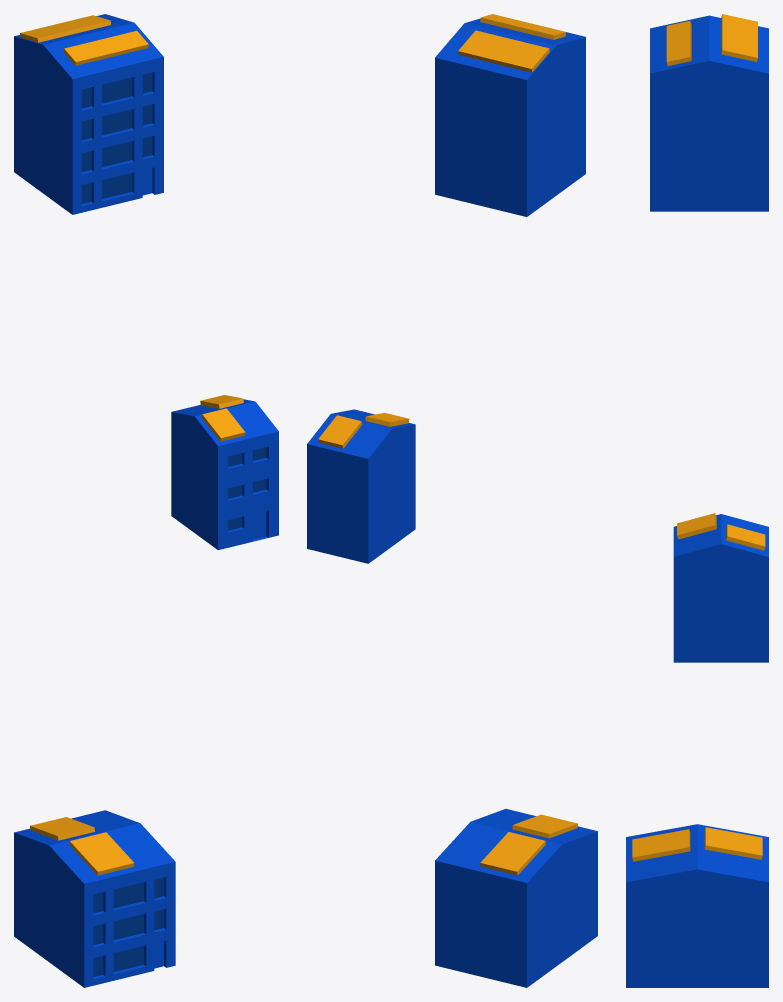
File: BinaGrup5.gltf
The picture shows the model from 3 angles, left to right: view 1: azimuth 30°, elevation 25°; view 2: azimuth 150°, elevation 25°; view 3: azimuth 270°, elevation 25°; orthographic projection.
Parts seen in each view (by area): view 1: Building_072.017, Building_076.017, Building_081.017, Building_072.019, Building_076.019, Building_076_RoofCap_0.001, Building_072_RoofCap_0.001, Building_072_RoofCap_1.001, Building_076_RoofCap_1.001, Building_081_RoofCap_0.001, Building_081.019; view 2: Building_072.017, Building_076.017, Building_081.017, Building_072_RoofCap_1.001, Building_076_RoofCap_1.001, Building_076_RoofCap_0.001, Building_072_RoofCap_0.001, Building_081_RoofCap_1.001; view 3: Building_072.017, Building_076.017, Building_081.017, Building_072_RoofCap_1.001, Building_076_RoofCap_0.001, Building_076_RoofCap_1.001, Building_072_RoofCap_0.001, Building_081_RoofCap_1.001, Building_081_RoofCap_0.001.
Boxes of the visible parts, bbox=[...] form: Building_072.017: bbox=[14, 14, 163, 214]; Building_076.017: bbox=[14, 810, 175, 987]; Building_081.017: bbox=[171, 399, 278, 550]; Building_072.019: bbox=[81, 72, 152, 203]; Building_076.019: bbox=[93, 877, 163, 976]; Building_076_RoofCap_0.001: bbox=[69, 832, 134, 875]; Building_072_RoofCap_0.001: bbox=[63, 31, 148, 65]; Building_072_RoofCap_1.001: bbox=[20, 15, 110, 42]; Building_076_RoofCap_1.001: bbox=[30, 817, 94, 840]; Building_081_RoofCap_0.001: bbox=[201, 408, 245, 441]; Building_081.019: bbox=[228, 447, 266, 530]; Building_072.017: bbox=[435, 18, 585, 216]; Building_076.017: bbox=[435, 809, 597, 987]; Building_081.017: bbox=[307, 409, 415, 563]; Building_072_RoofCap_1.001: bbox=[458, 30, 549, 72]; Building_076_RoofCap_1.001: bbox=[480, 832, 545, 875]; Building_076_RoofCap_0.001: bbox=[512, 814, 577, 838]; Building_072_RoofCap_0.001: bbox=[480, 14, 565, 39]; Building_081_RoofCap_1.001: bbox=[318, 415, 362, 448]; Building_072.017: bbox=[650, 15, 768, 211]; Building_076.017: bbox=[626, 824, 768, 987]; Building_081.017: bbox=[673, 514, 768, 662]; Building_072_RoofCap_1.001: bbox=[721, 14, 757, 61]; Building_076_RoofCap_0.001: bbox=[632, 829, 690, 861]; Building_076_RoofCap_1.001: bbox=[704, 827, 762, 859]; Building_072_RoofCap_0.001: bbox=[666, 21, 691, 65]; Building_081_RoofCap_1.001: bbox=[726, 524, 765, 550]; Building_081_RoofCap_0.001: bbox=[677, 513, 716, 539].
Size of the model in its own units: 0.1168 by 0.4683 by 0.0652.
